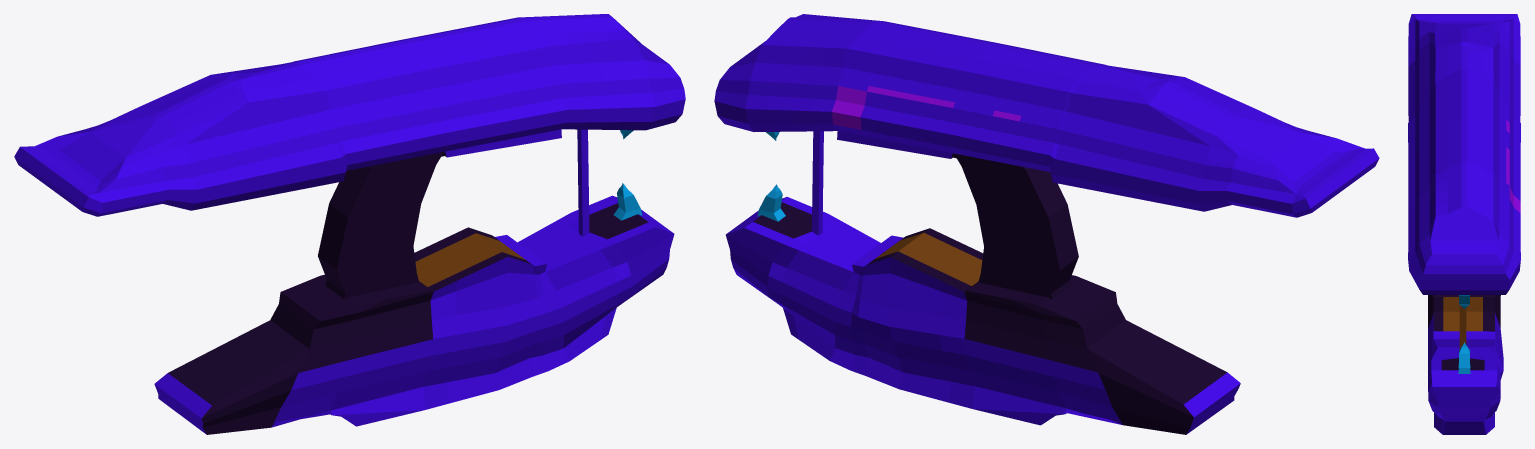
Rendered from PlasmaRifleSmooth.fbx.
3 views of the same model, side by side, from view 1: azimuth 30°, elevation 25°; view 2: azimuth 150°, elevation 25°; view 3: azimuth 270°, elevation 25° (orthographic). The views are drawn at different scales.
Visible parts, largest first — view 1: Top, Bottom, Grip, Cube.001; view 2: Top, Bottom, Grip; view 3: Top, Bottom, Cube.001, Cube.002.
Boxes of the visible parts, bbox=[...] form: Top: bbox=[14, 14, 685, 216]; Bottom: bbox=[154, 129, 674, 434]; Grip: bbox=[318, 152, 444, 299]; Cube.001: bbox=[613, 183, 642, 220]; Top: bbox=[714, 14, 1379, 217]; Bottom: bbox=[725, 131, 1240, 434]; Grip: bbox=[953, 154, 1078, 299]; Top: bbox=[1408, 14, 1520, 294]; Bottom: bbox=[1428, 295, 1503, 434]; Cube.001: bbox=[1458, 342, 1470, 373]; Cube.002: bbox=[1459, 295, 1469, 308].
Size of the model in its own units: 500 by 281 by 104.
